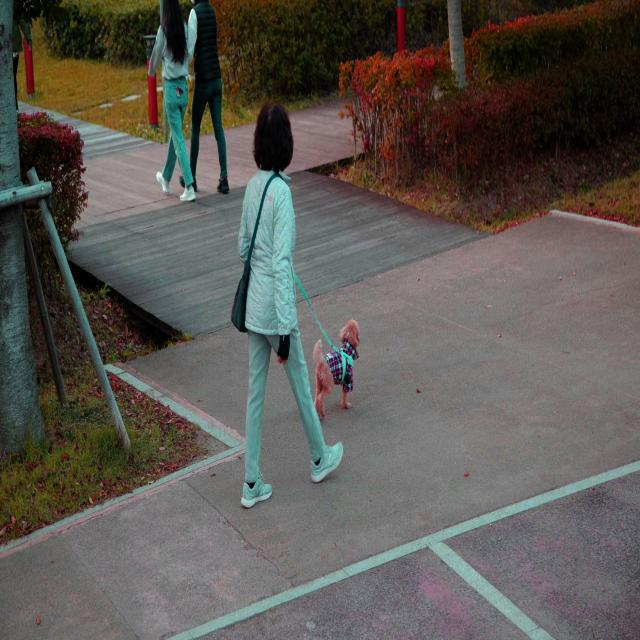Leashed_Dog: (272, 273, 360, 422)
